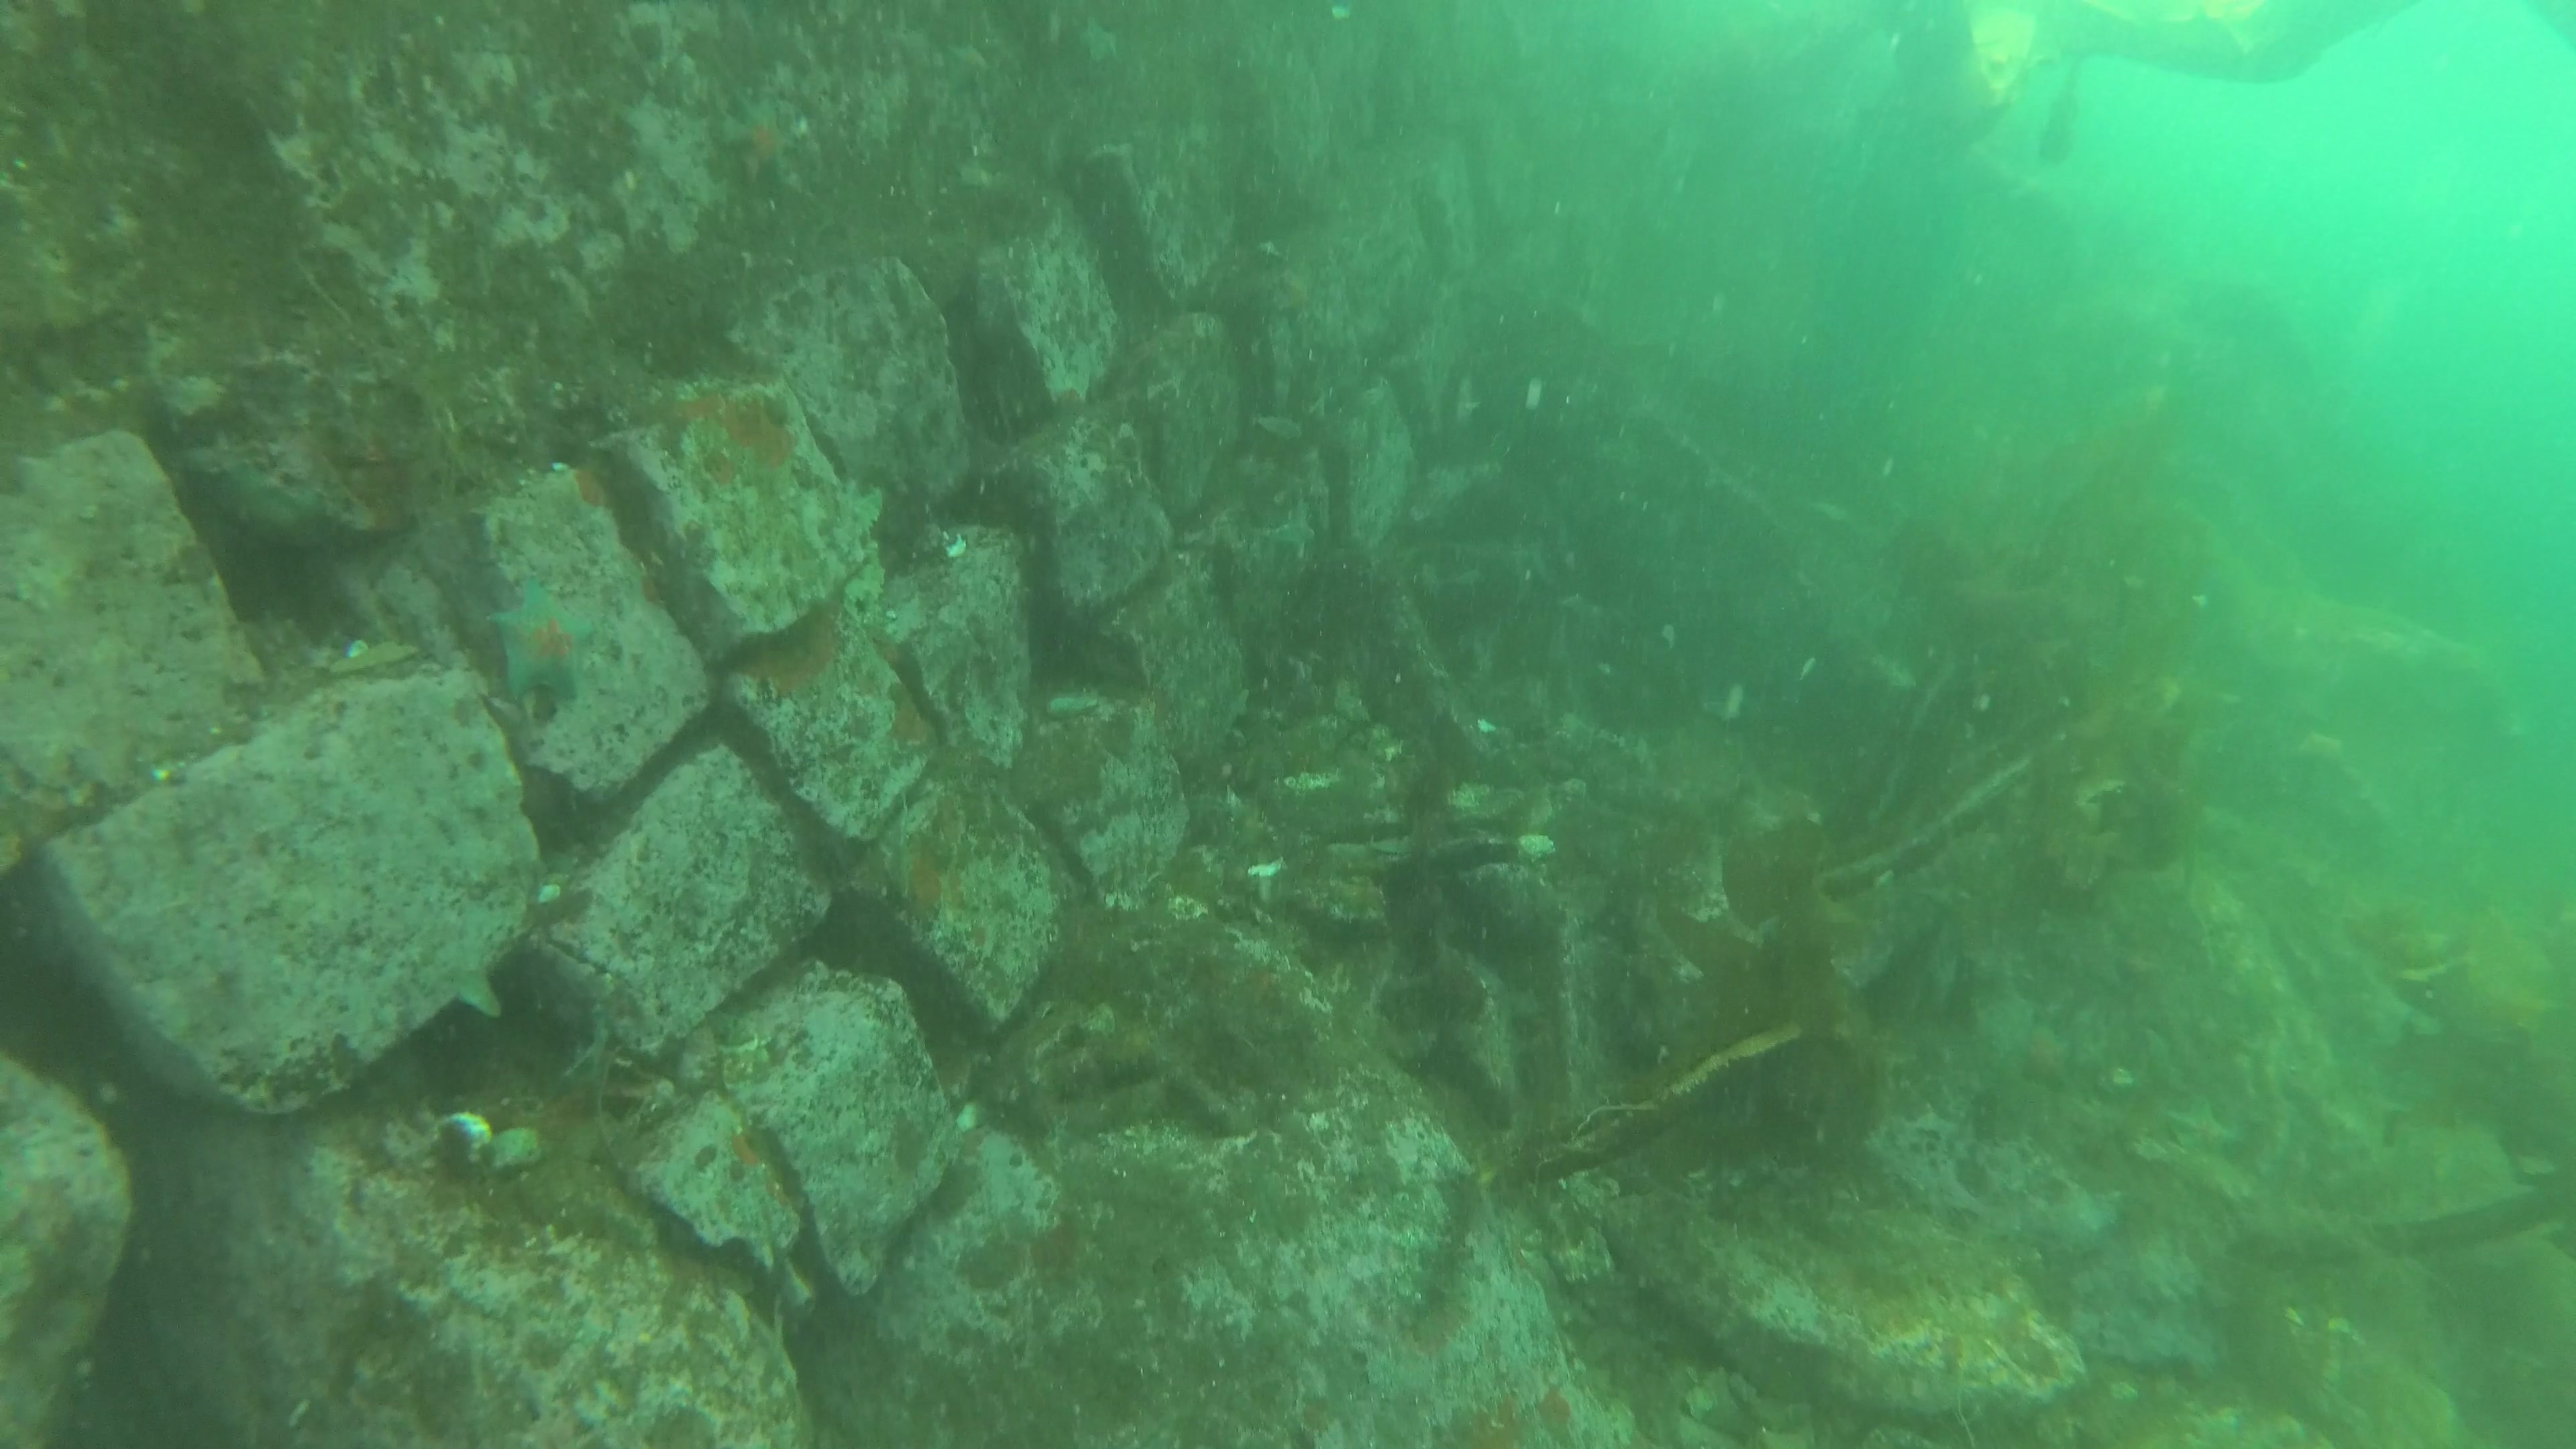starfish: (494, 584, 598, 708)
